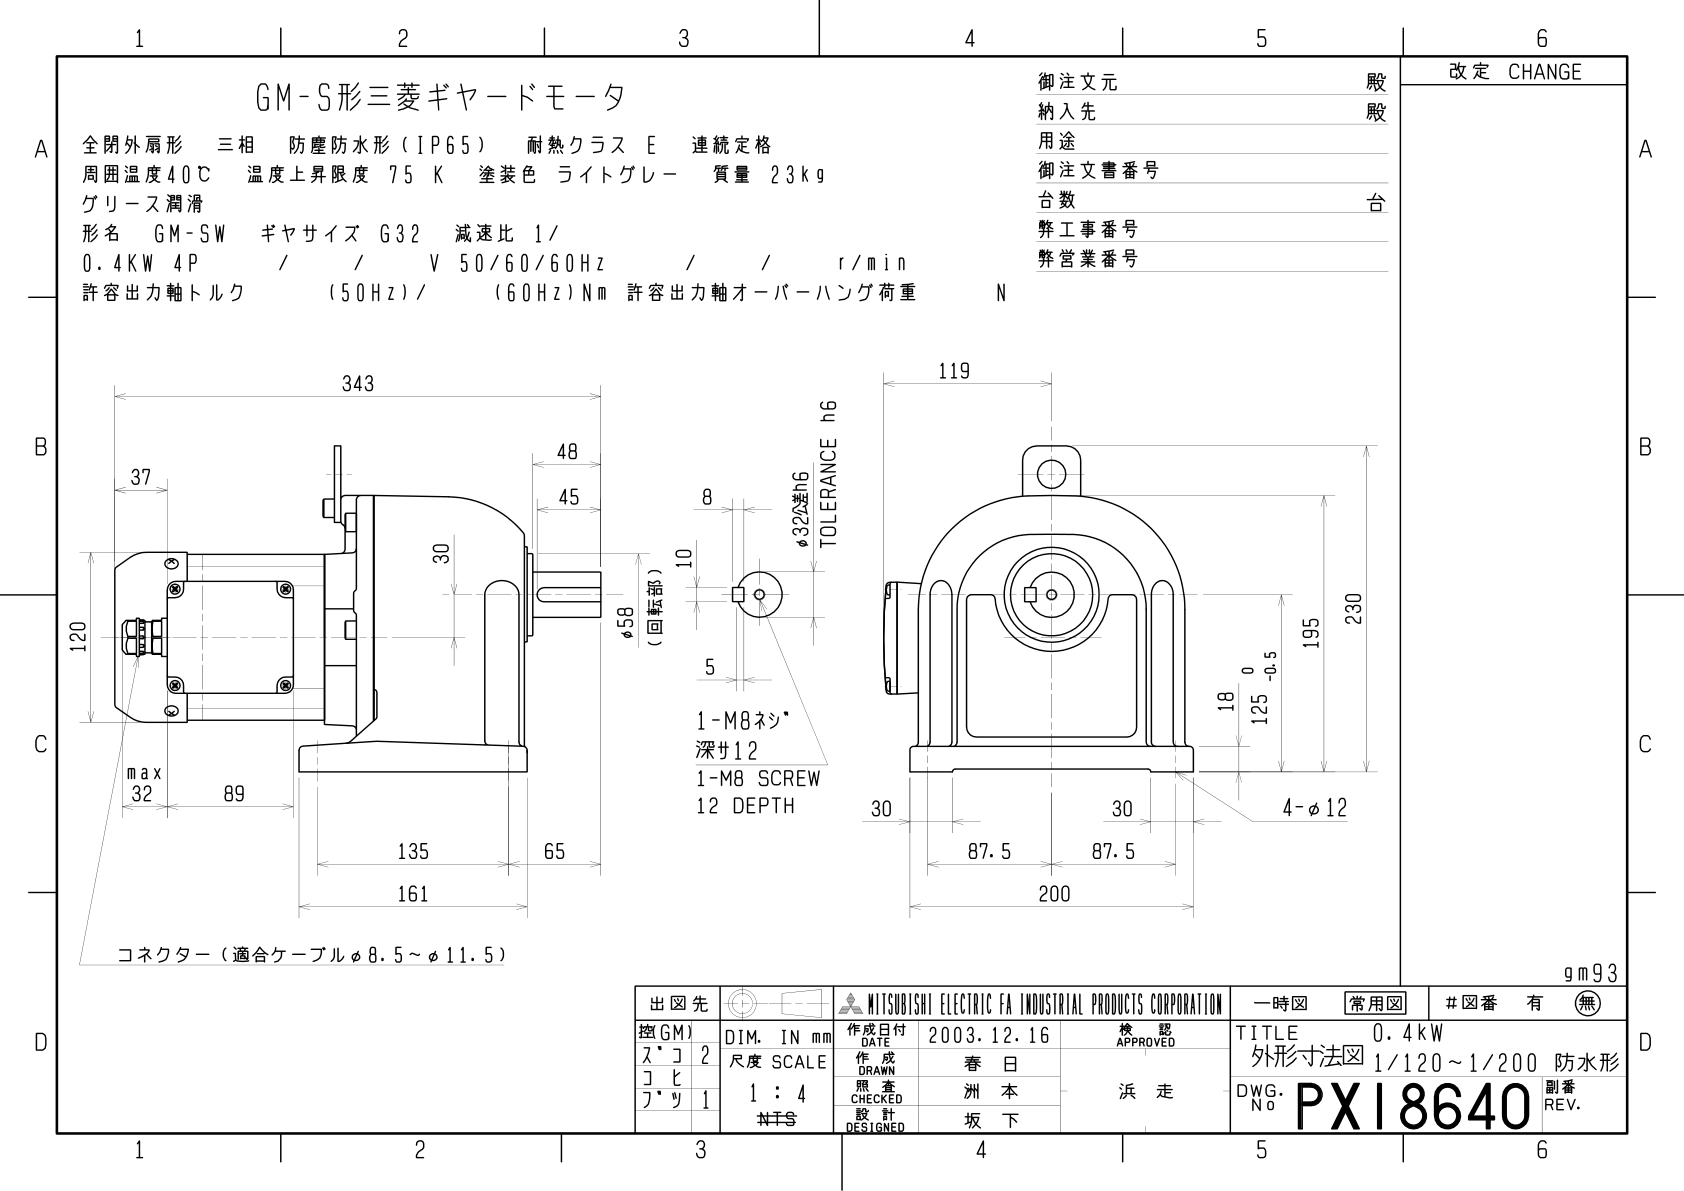GM_S_IP65＿三相_脚: (6, 5, 1684, 1191)
